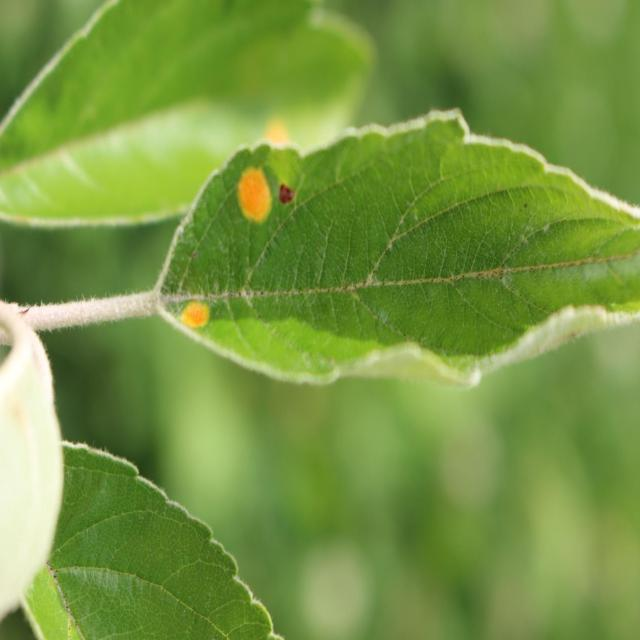Rust: (237, 158, 274, 226), (255, 121, 299, 161), (178, 300, 212, 340), (274, 173, 301, 213)
